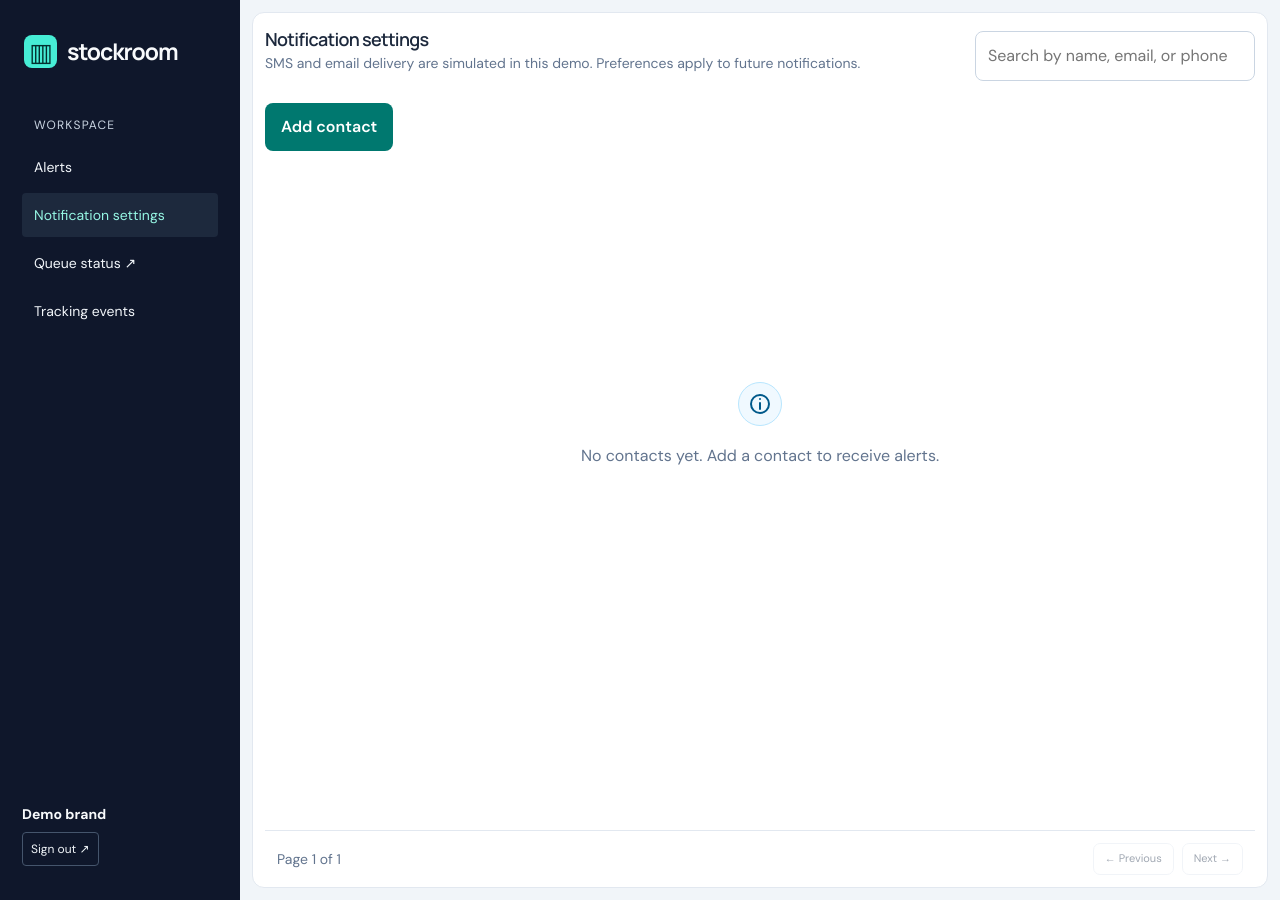
Scenario: shows a search-specific empty state
Type "Missing" into the search field named "Search contacts". click: (1115, 56)
box: [975, 31, 1255, 81]
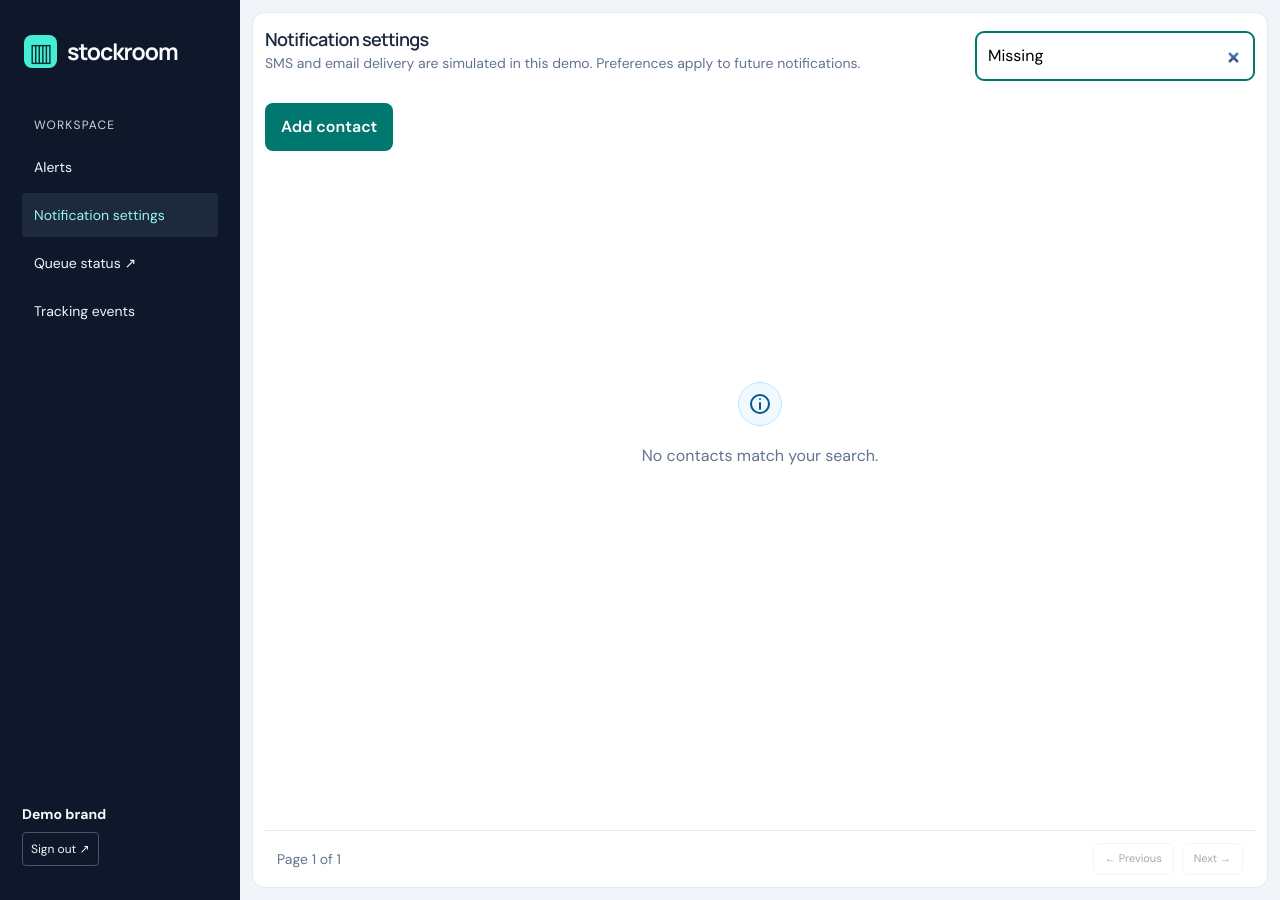
Expected: the text "No contacts match your search." is shown, [642, 444, 878, 468]
